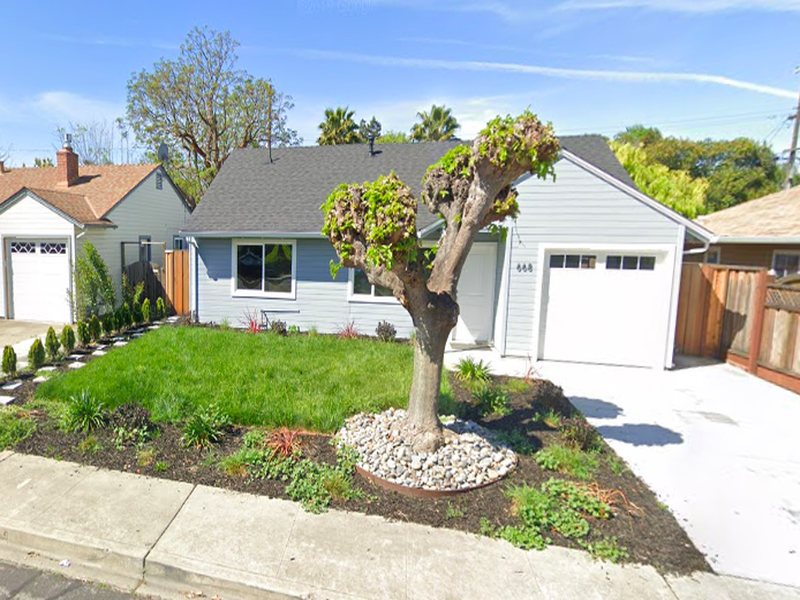tree: (319, 108, 565, 452)
